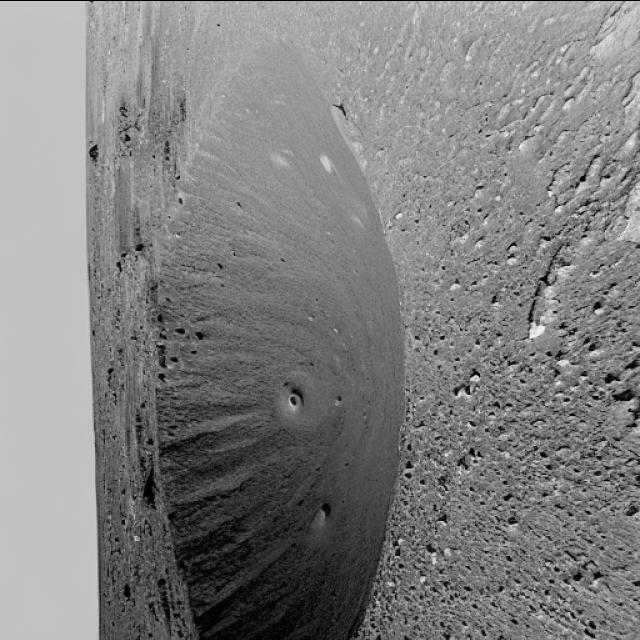crater: (153, 36, 407, 640)
